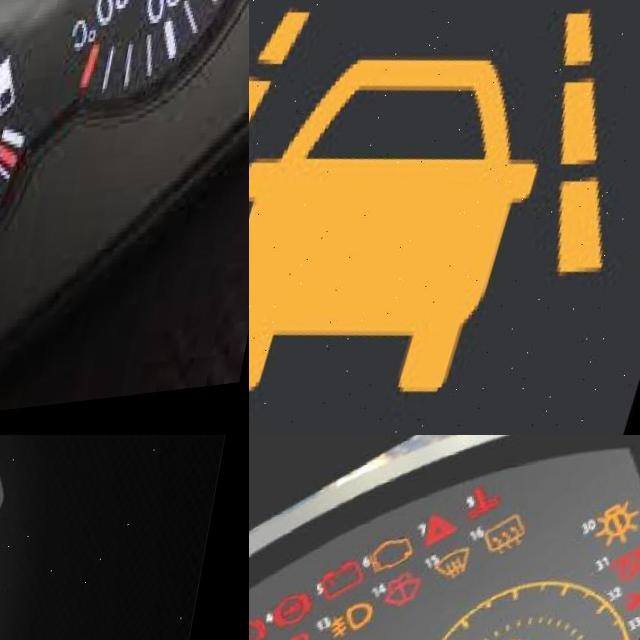High Engine Coolant Temperature: (460, 490, 509, 537)
